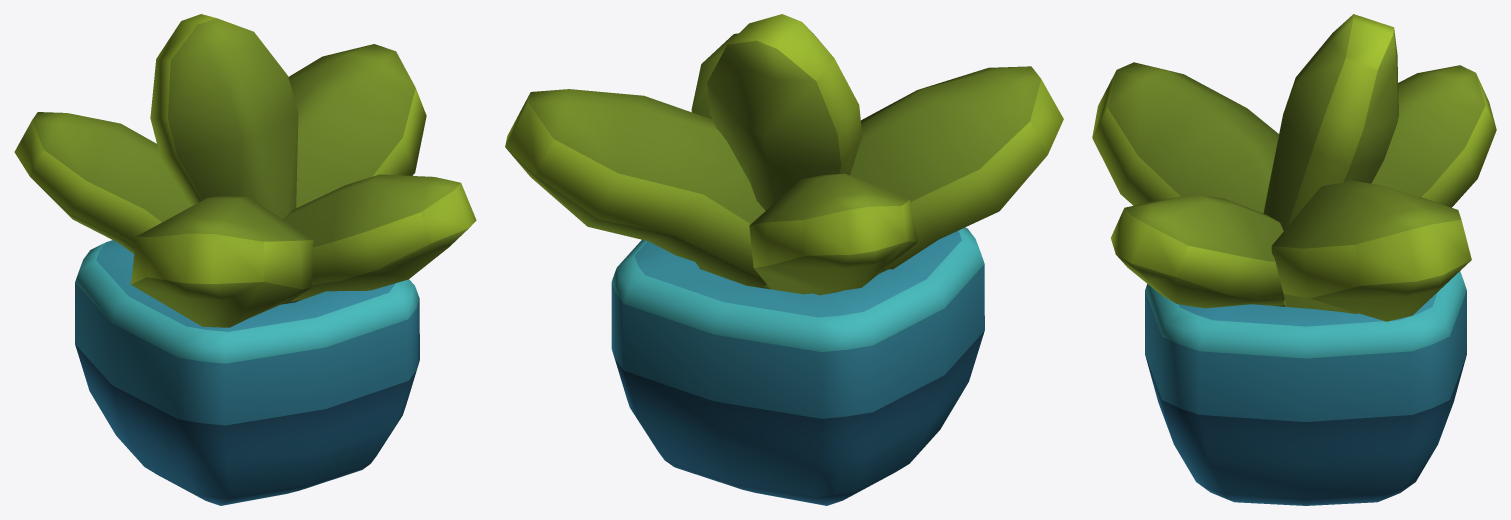
Rendered from plant4_LOD_setup.fbx.
3 renders of one model, left to right at view 1: azimuth 30°, elevation 25°; view 2: azimuth 150°, elevation 25°; view 3: azimuth 270°, elevation 25°, orthographic. The views are drawn at different scales.
Visible parts, largest first — view 1: plant4_LOD0; view 2: plant4_LOD0; view 3: plant4_LOD0.
Boxes of the visible parts, x1=… form: plant4_LOD0: x1=14, y1=14, x2=476, y2=505; plant4_LOD0: x1=505, y1=14, x2=1063, y2=505; plant4_LOD0: x1=1092, y1=14, x2=1496, y2=505.
Size of what is drawn, in the model's own units: 37.37 by 40.65 by 33.41.
